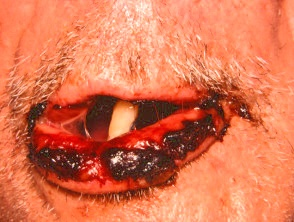SJS-TEN: (14, 81, 271, 208)
